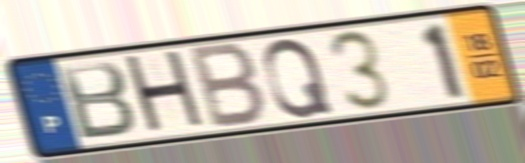1: (419, 19, 468, 103)
3: (327, 28, 394, 114)
B: (187, 40, 269, 132), (55, 58, 139, 144)
H: (119, 46, 211, 139)
Q: (260, 35, 337, 121)
